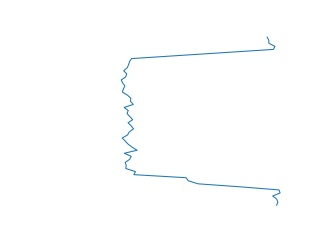distributaryChannelFill: (116, 38, 289, 205)
